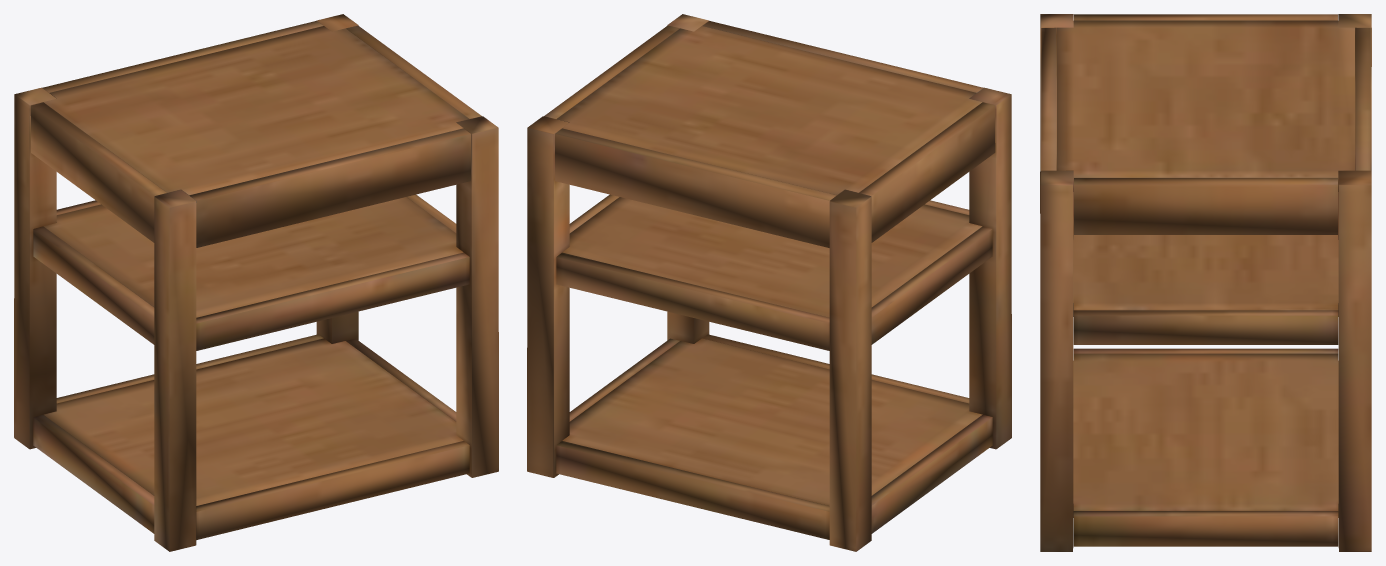
The model's file is side-table-lightweight-b01a6bada1.glb.
The picture shows the model from 3 angles, left to right: view 1: azimuth 30°, elevation 25°; view 2: azimuth 150°, elevation 25°; view 3: azimuth 270°, elevation 25°; orthographic projection. The views are drawn at different scales.
Parts seen in each view (by area): view 1: side_table_01; view 2: side_table_01; view 3: side_table_01.
Boxes of the visible parts, x1,y1,x2,y2 form: side_table_01: (14, 14, 498, 551); side_table_01: (527, 14, 1011, 551); side_table_01: (1040, 14, 1371, 551).
Size of the model in its own units: 0.5491 by 0.5507 by 0.4492.
1 material, 1 textured.
